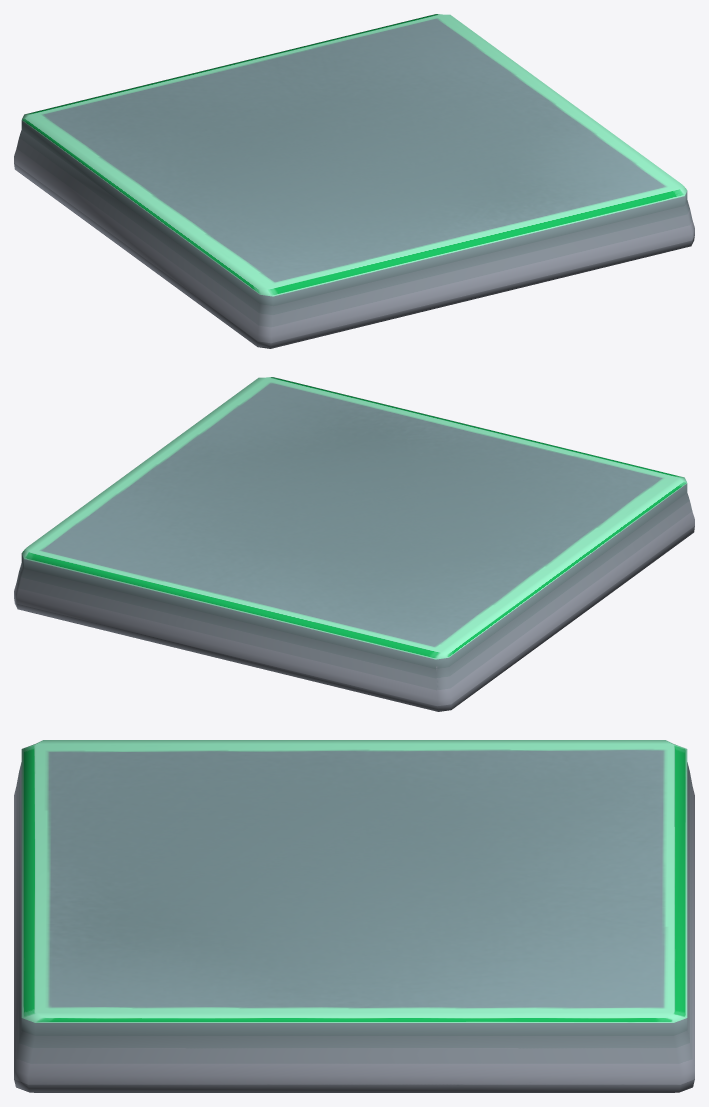
The model's file is GDW_1_Y2 - Floor Tile.obj.
The picture shows the model from 3 angles, top to bottom: view 1: azimuth 30°, elevation 25°; view 2: azimuth 150°, elevation 25°; view 3: azimuth 270°, elevation 25°; orthographic projection. The views are drawn at different scales.
Visible parts, largest first — view 1: Floor_Cube; view 2: Floor_Cube; view 3: Floor_Cube.
Part boxes in pixels (bbox=[...]): Floor_Cube: bbox=[14, 14, 694, 348]; Floor_Cube: bbox=[14, 377, 694, 711]; Floor_Cube: bbox=[14, 740, 694, 1092].
Bounding box in the file's own units: 0.493 × 0.0588 × 0.497.
Materials: 1 (1 with a texture image).
